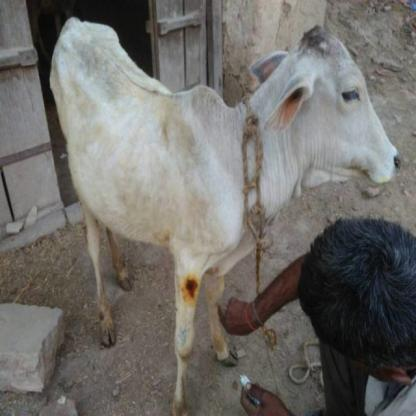cow: (47, 17, 400, 370)
injured: (176, 265, 212, 304)
